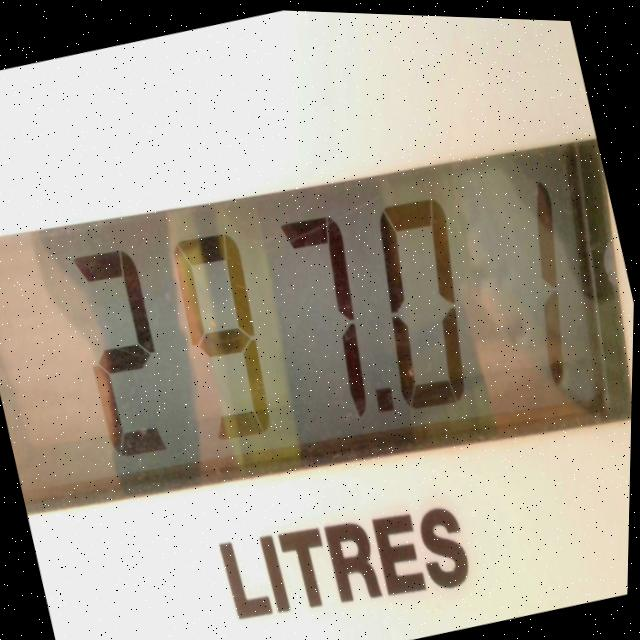.: (363, 366, 411, 437)
0: (350, 169, 502, 430)
1: (475, 168, 602, 398)
2: (48, 213, 201, 496)
7: (263, 193, 393, 460)
9: (147, 204, 307, 487)
